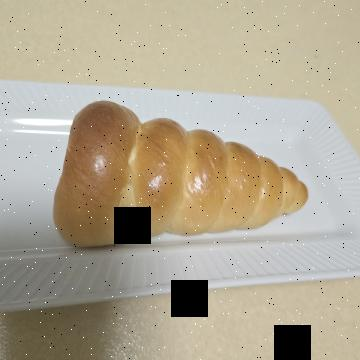cream horn: (91, 33, 286, 317)
